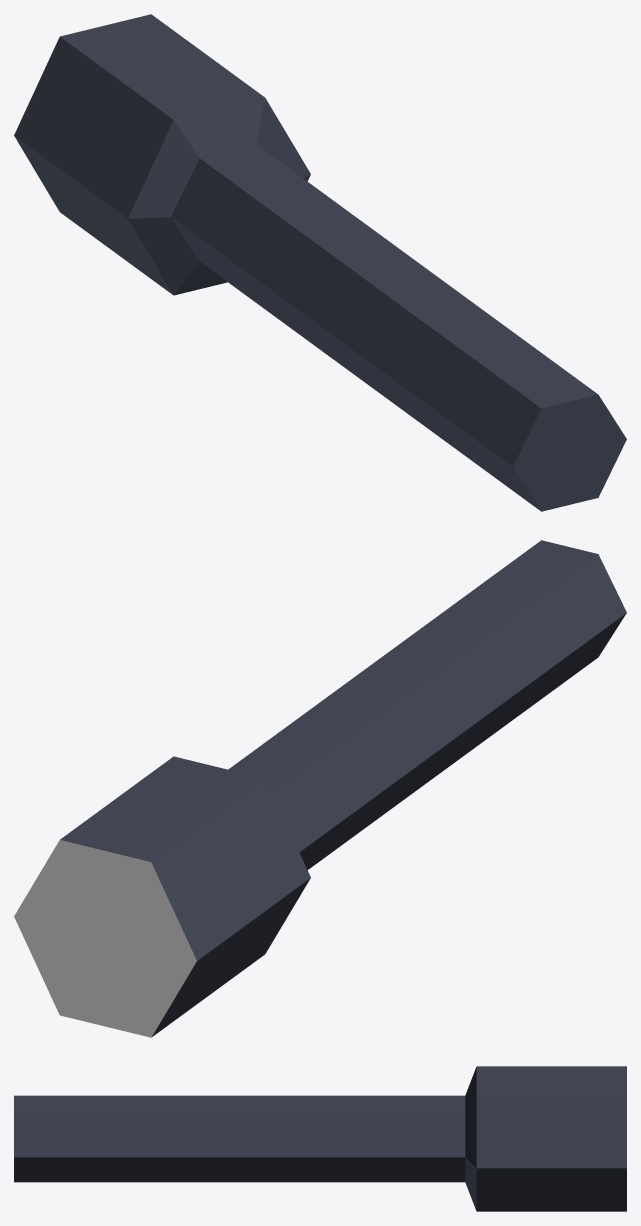
File: w_flashlight.gltf
The picture shows the model from 3 angles, top to bottom: view 1: azimuth 30°, elevation 25°; view 2: azimuth 150°, elevation 25°; view 3: azimuth 270°, elevation 25°; orthographic projection. The views are drawn at different scales.
Visible parts, largest first — view 1: cylinder; view 2: cylinder; view 3: cylinder.
Part boxes in pixels (box(x1,y1,x2,y2)): cylinder: box(14, 14, 626, 511); cylinder: box(14, 540, 626, 1037); cylinder: box(14, 1066, 626, 1211).
Bounding box in the file's own units: 0.058 × 0.0531 × 0.2547.
Materials: 1 (1 with a texture image).
